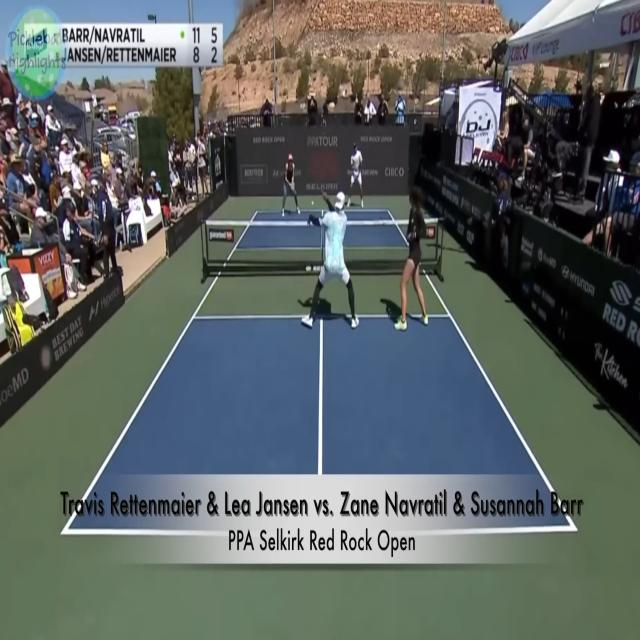ball: (308, 195, 317, 209)
